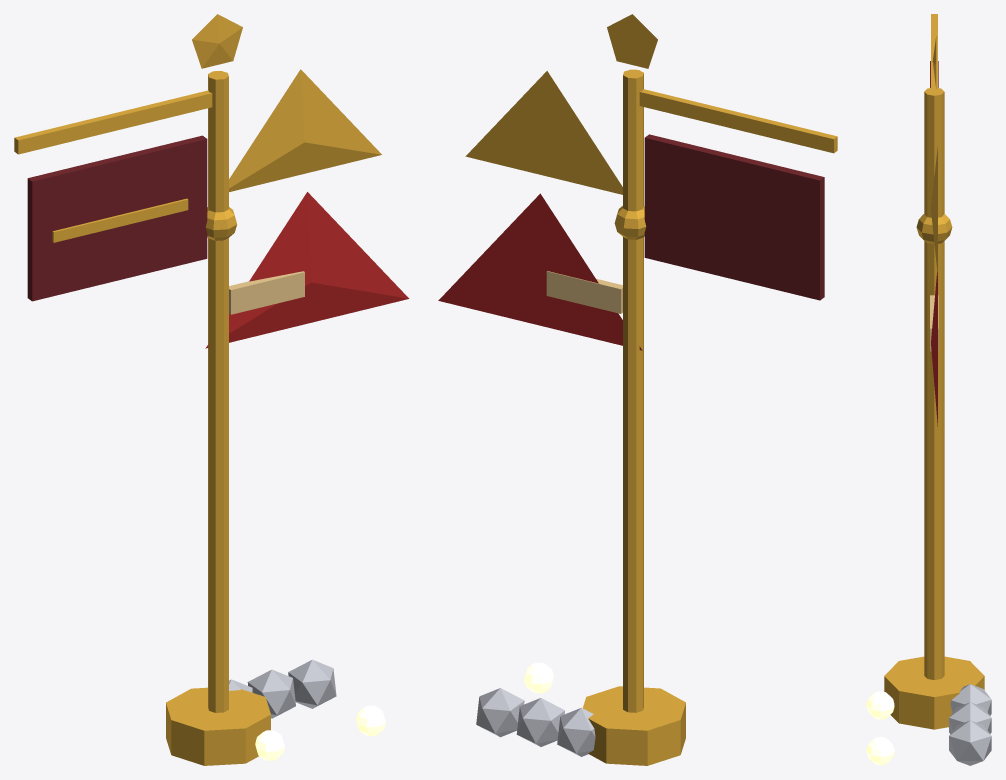
The model's file is decoracao-bandeira-n3.glb.
3 views of the same model, side by side, from view 1: azimuth 30°, elevation 25°; view 2: azimuth 150°, elevation 25°; view 3: azimuth 270°, elevation 25° (orthographic). The views are drawn at different scales.
Parts seen in each view (by area): view 1: Cube.002, Cylinder.002, Cone, Cone.001, Cylinder, Cube.001, Cube, Cone.002, Cube.003, Icosphere.002, Icosphere.001, Sphere (+2 smaller); view 2: Cube.002, Cylinder.002, Cone, Cone.001, Cylinder, Cube.001, Cube, Cone.002, Icosphere.001, Icosphere.002, Icosphere, Sphere (+1 smaller); view 3: Cylinder.002, Cylinder, Icosphere.002, Icosphere.001, Icosphere, Sphere, Cone, Sphere.001, Sphere.002, Cone.001, Cube.001.
Boxes of the visible parts, x1,y1,x2,y2 form: Cube.002: (27, 135, 207, 301); Cylinder.002: (208, 71, 228, 712); Cone: (205, 192, 409, 348); Cone.001: (229, 69, 381, 191); Cylinder: (166, 687, 270, 765); Cube.001: (14, 90, 212, 154); Cube: (229, 271, 304, 314); Cone.002: (192, 14, 242, 68); Cube.003: (52, 198, 188, 242); Icosphere.002: (288, 659, 336, 708); Icosphere.001: (247, 669, 295, 718); Sphere: (205, 207, 237, 240); Cube.002: (644, 134, 824, 300); Cylinder.002: (623, 69, 643, 712); Cone: (438, 193, 642, 350); Cone.001: (465, 71, 622, 194); Cylinder: (583, 686, 685, 765); Cube.001: (639, 89, 837, 153); Cube: (546, 271, 622, 313); Cone.002: (607, 14, 657, 68); Icosphere.001: (516, 698, 564, 746); Icosphere.002: (476, 688, 524, 737); Icosphere: (557, 707, 595, 756); Sphere: (614, 206, 646, 239); Cylinder.002: (924, 87, 944, 679); Cylinder: (884, 656, 984, 729); Icosphere.002: (949, 720, 991, 765); Icosphere.001: (949, 702, 991, 733); Icosphere: (950, 684, 991, 715); Sphere: (916, 214, 952, 244); Cone: (931, 272, 937, 426); Sphere.001: (866, 691, 894, 719); Sphere.002: (866, 736, 894, 765); Cone.001: (931, 146, 937, 275); Cube.001: (931, 14, 937, 87).
Bounding box in the file's own units: 1.17 × 2.09 × 0.3495.
